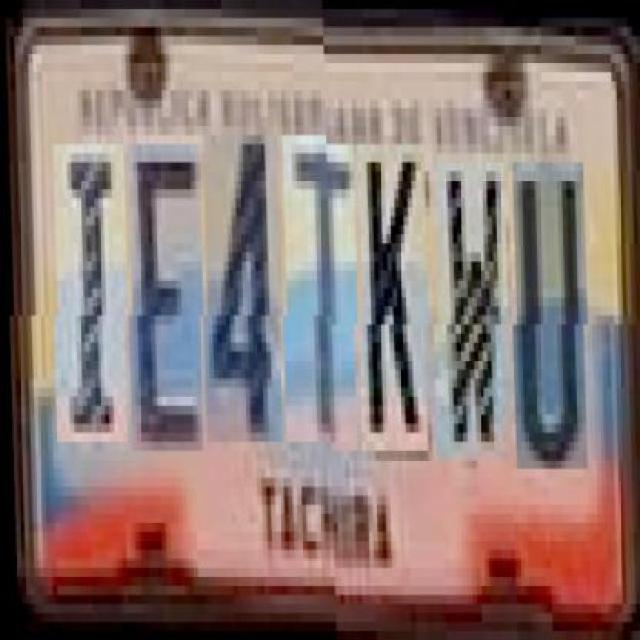4: (202, 144, 284, 451)
e: (127, 153, 205, 459)
i: (52, 153, 130, 452)
k: (356, 144, 430, 451)
t: (282, 144, 360, 451)
u: (512, 162, 590, 469)
w: (432, 162, 510, 460)
